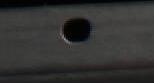holes: (59, 16, 94, 44)
